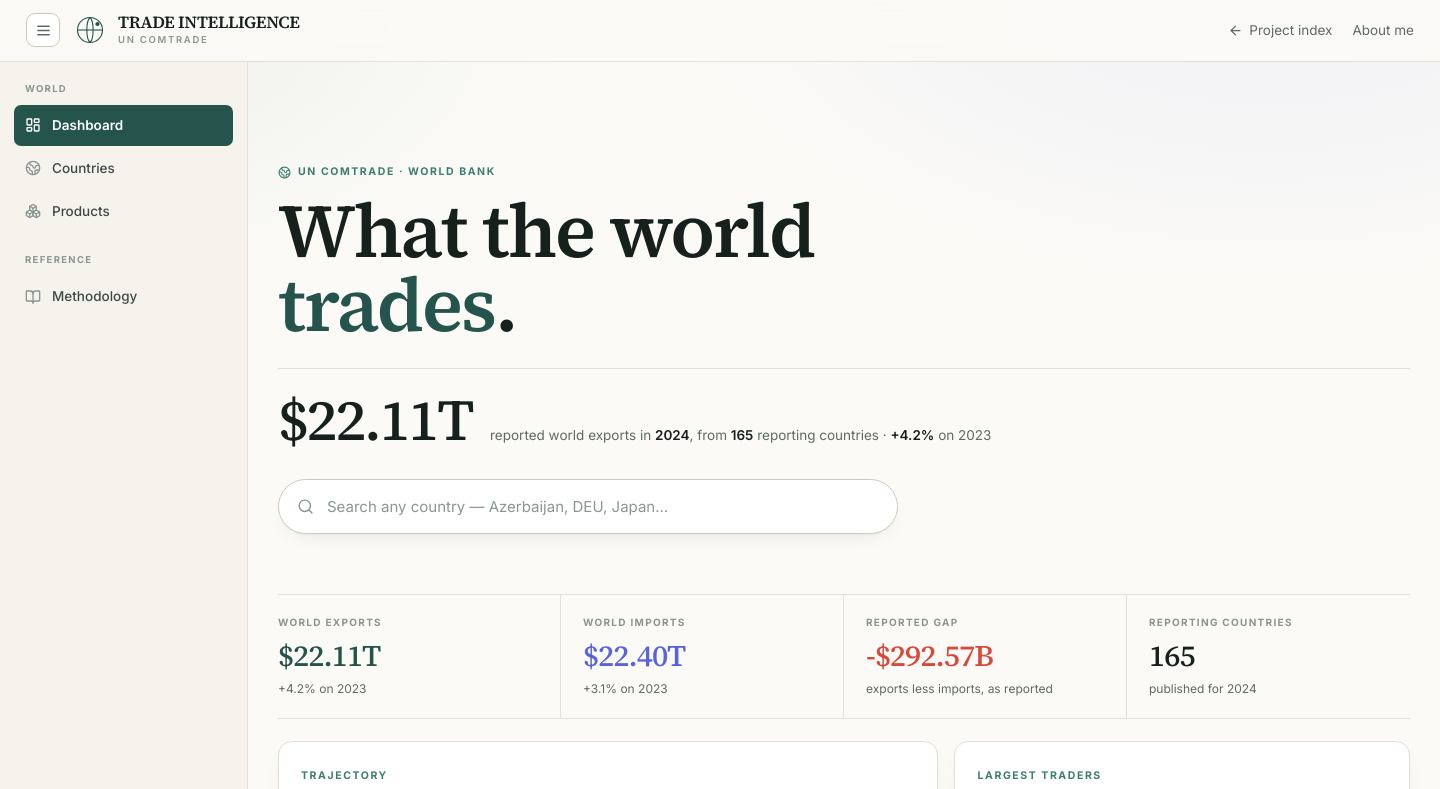
Test: world overview (landing) › finds a country by name
Type "viet" into the dropdown named "search for a country". click: point(602, 507)
box: [325,494,879,519]
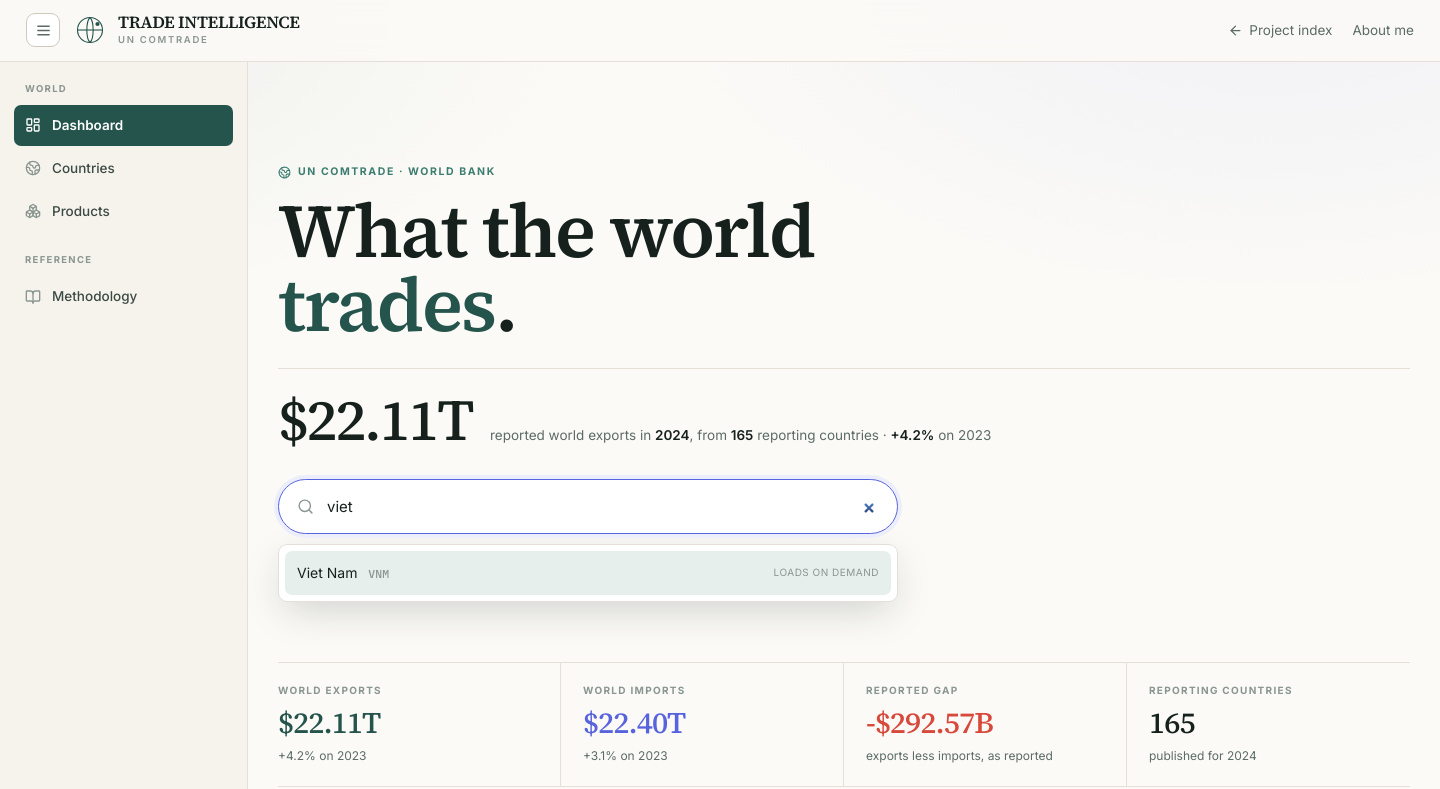
Result: the text "Viet Nam VNM" is shown at [297,562,389,584]
